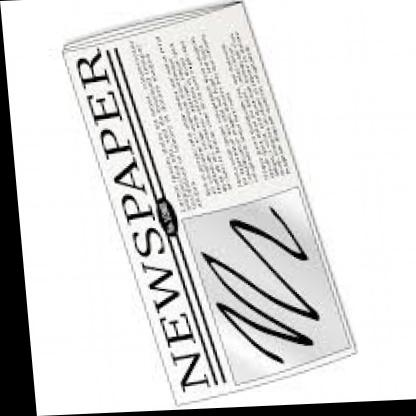Paper: (39, 0, 411, 400)
